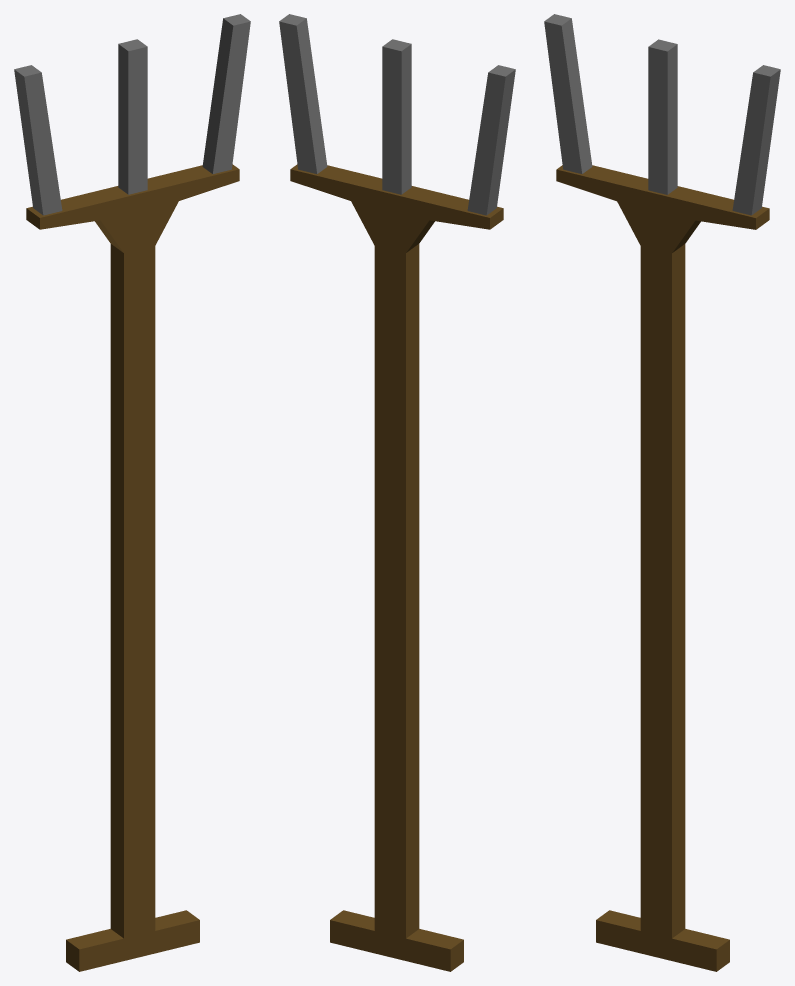
File: mesh_rake.fbx
3 renders of one model, left to right at view 1: azimuth 30°, elevation 25°; view 2: azimuth 150°, elevation 25°; view 3: azimuth 330°, elevation 25°, orthographic.
Parts seen in each view (by area): view 1: rake; view 2: rake; view 3: rake.
Boxes of the visible parts, <box> form: rake: <box>14,14,250,971</box>; rake: <box>279,14,515,971</box>; rake: <box>544,14,780,971</box>.
Size of the model in its own units: 35.27 by 135 by 3.62.
Materials: 1 (1 with a texture image).
